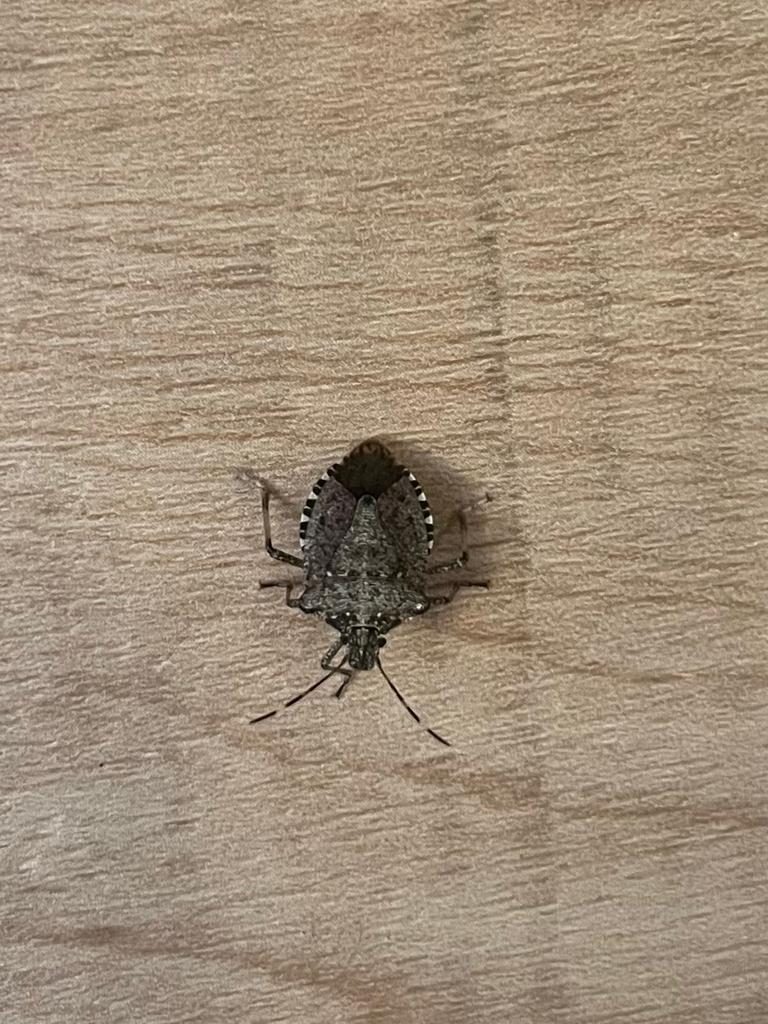stink_bugs: (199, 401, 541, 782)
